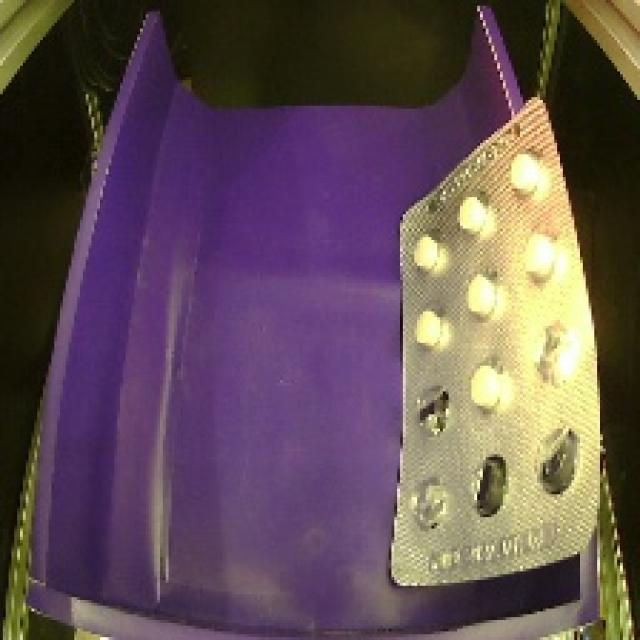med_plate: (384, 92, 601, 608)
